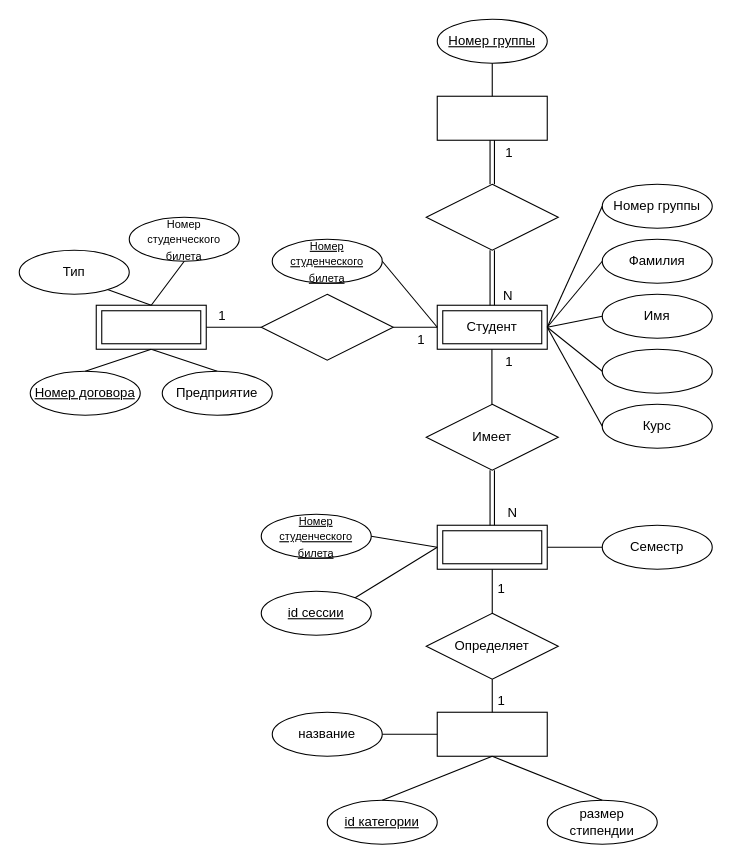
Image size: 732x864. Some labels were removed from this diagram. Each missing label, with the centre of its shape:
"Группа студентов" goes at point (491, 117).
"Договор" goes at point (150, 326).
"Заключил" goes at point (326, 326).
"Категория" goes at point (491, 733).
"Отчество" goes at point (656, 370).
"Результат сдачи сессии" goes at point (491, 546).
"Состоит из" goes at point (491, 216).
